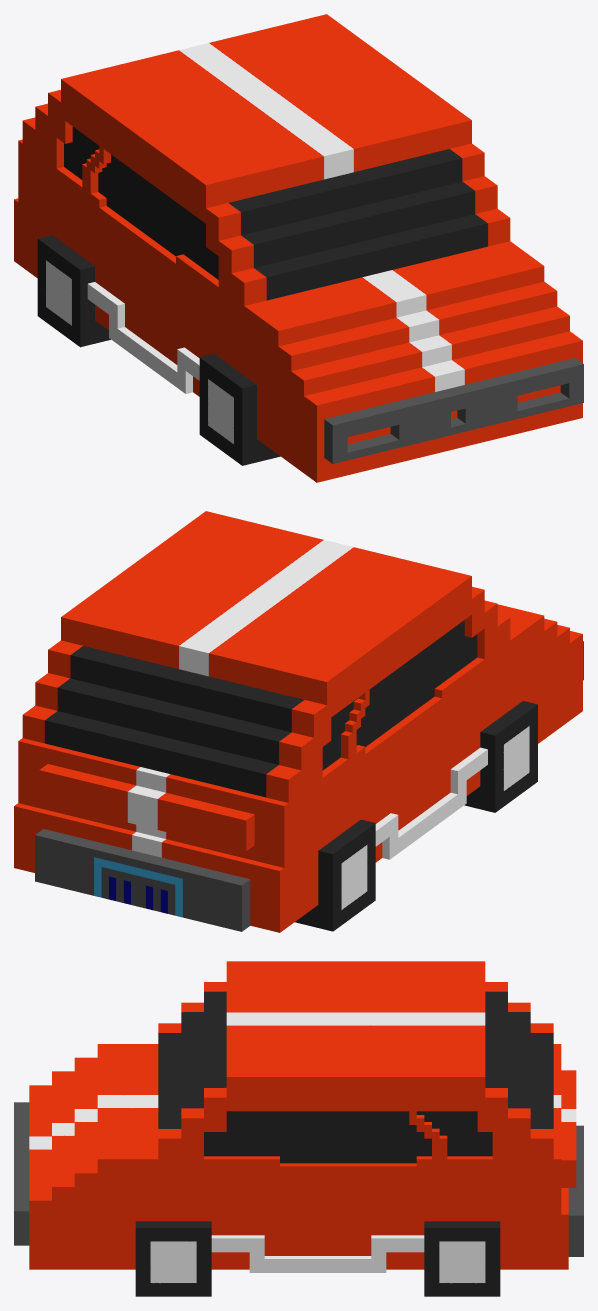
The model's file is Character_12.fbx.
3 renders of one model, top to bottom at view 1: azimuth 30°, elevation 25°; view 2: azimuth 150°, elevation 25°; view 3: azimuth 270°, elevation 25°, orthographic. The views are drawn at different scales.
Visible parts, largest first — view 1: Character_12; view 2: Character_12; view 3: Character_12.
Boxes of the visible parts, x1,y1,x2,y2 form: Character_12: (14, 14, 583, 482); Character_12: (14, 511, 583, 932); Character_12: (14, 961, 583, 1296).
Bounding box in the file's own units: 40 × 31 × 75.
